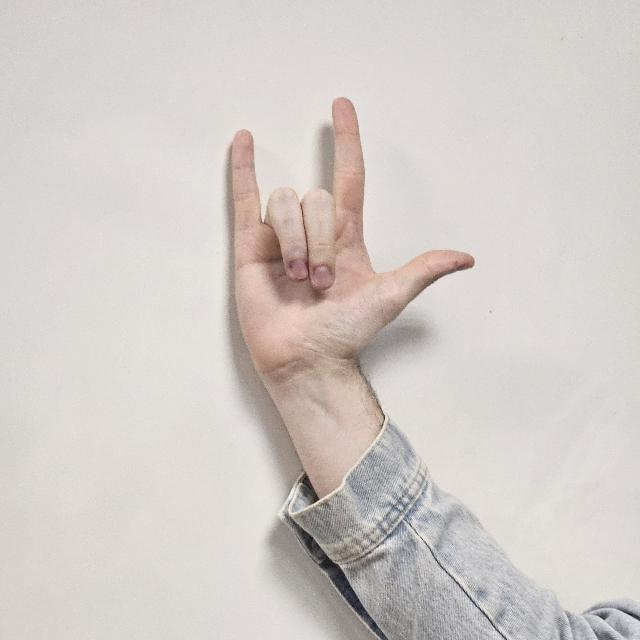Cima: (221, 93, 475, 395)
